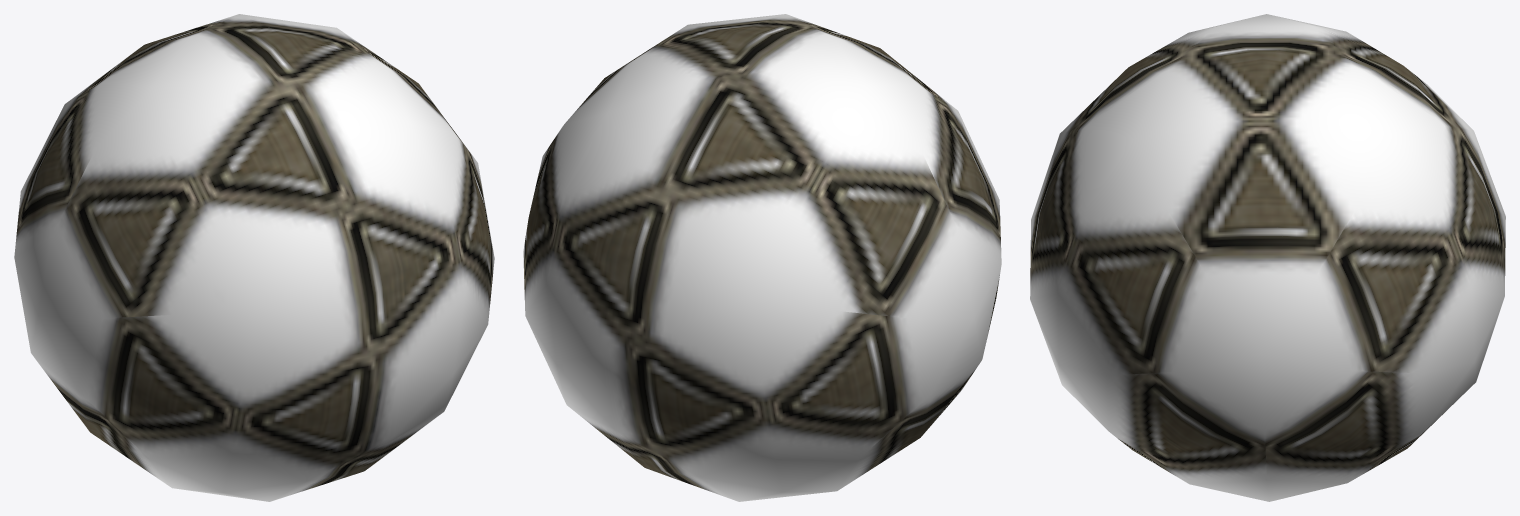
Rendered from st_ball_020.fbx.
The picture shows the model from 3 angles, left to right: view 1: azimuth 30°, elevation 25°; view 2: azimuth 150°, elevation 25°; view 3: azimuth 270°, elevation 25°; orthographic projection.
Parts seen in each view (by area): view 1: st_Ball_020; view 2: st_Ball_020; view 3: st_Ball_020.
Boxes of the visible parts, bbox=[...] form: st_Ball_020: bbox=[14, 14, 494, 501]; st_Ball_020: bbox=[523, 14, 1001, 501]; st_Ball_020: bbox=[1030, 14, 1505, 501].
Size of the model in its own units: 22.16 by 21.34 by 21.58.
